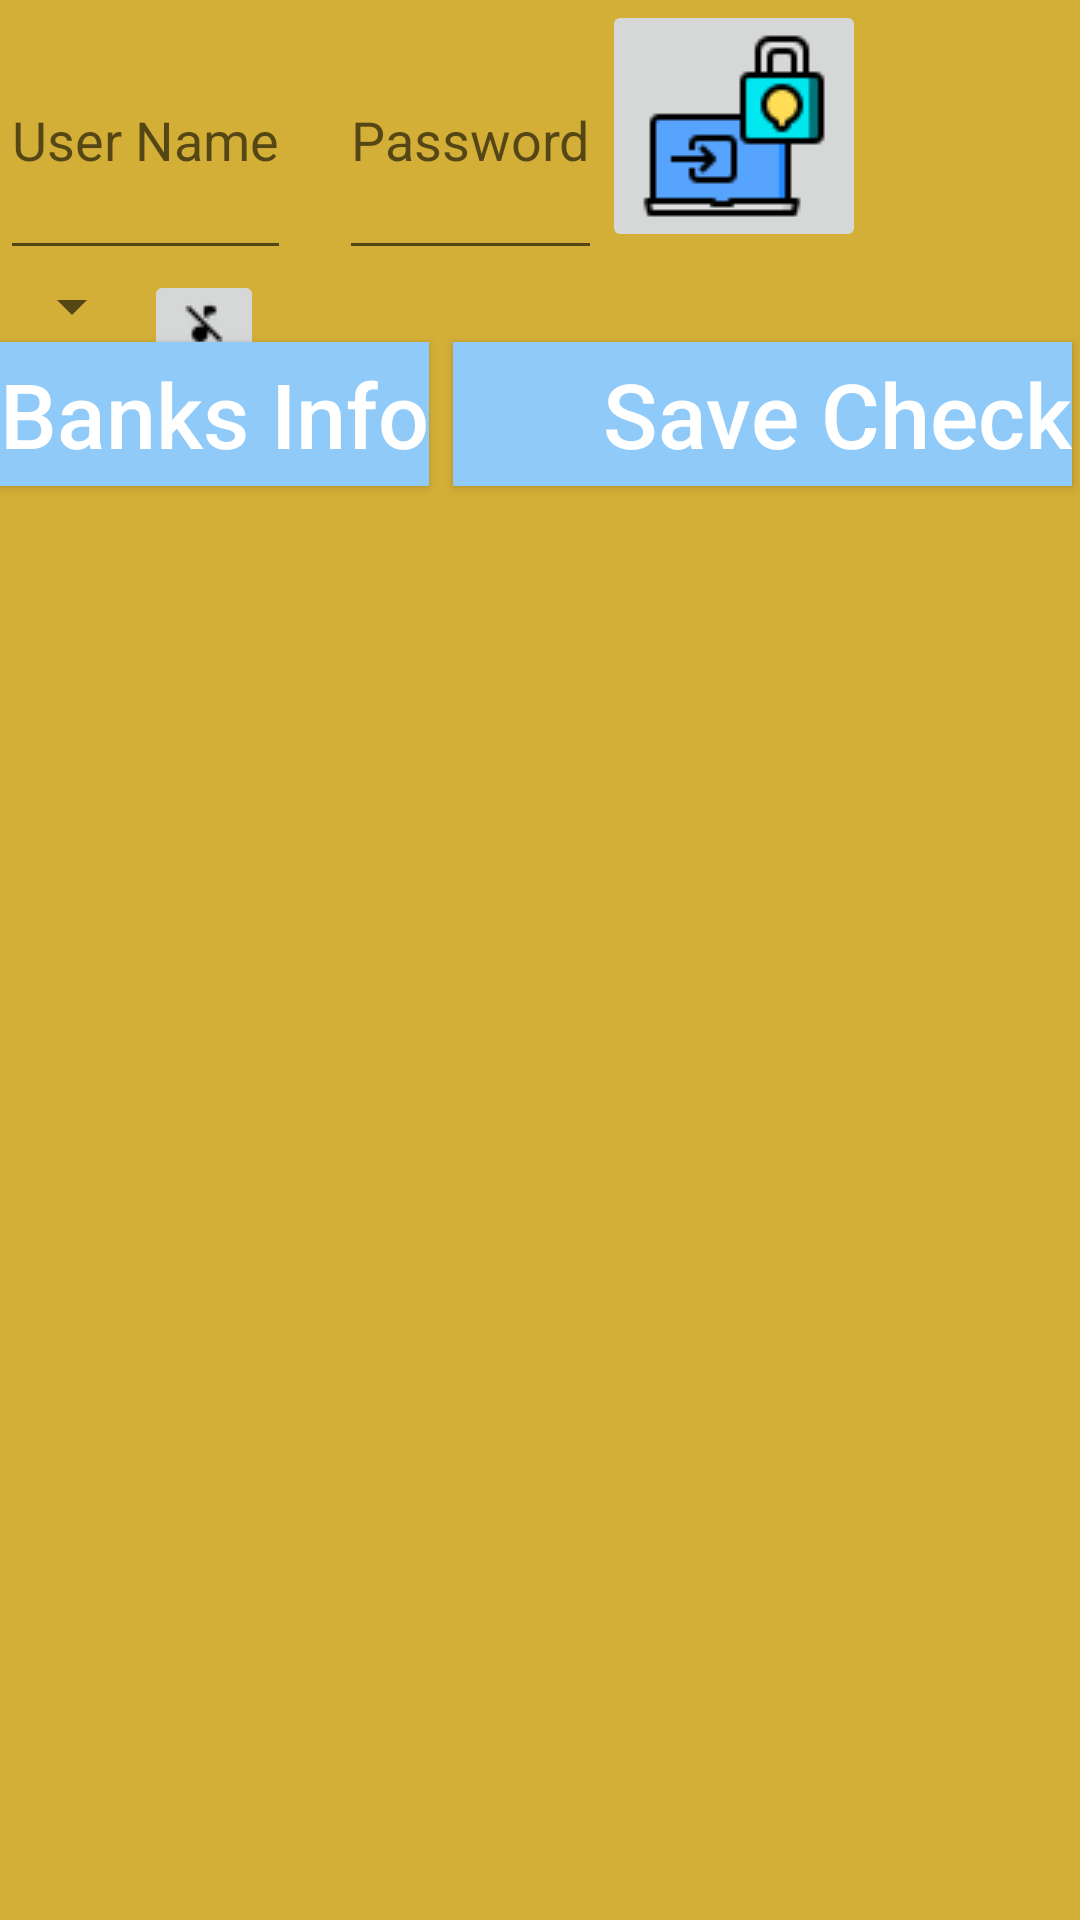

Named icons in this screenshot (1080x1920) and their centers, (x,y):
login: (734,126)
